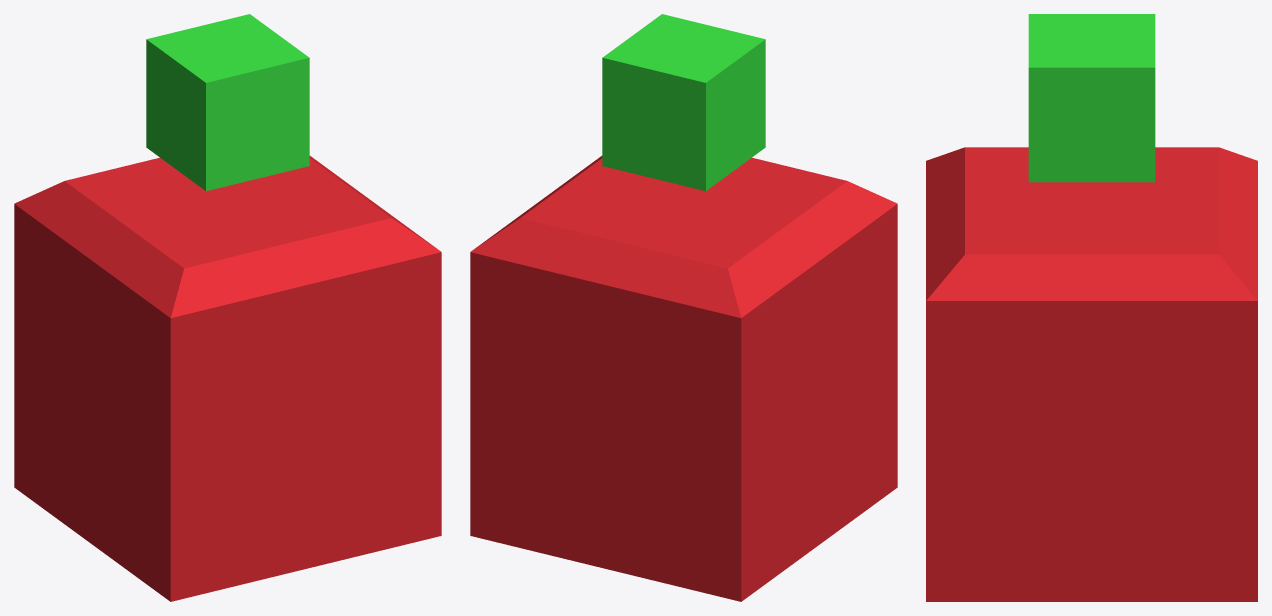
Rendered from TestBody.gltf.
The picture shows the model from 3 angles, left to right: view 1: azimuth 30°, elevation 25°; view 2: azimuth 150°, elevation 25°; view 3: azimuth 270°, elevation 25°; orthographic projection. The views are drawn at different scales.
Visible parts, largest first — view 1: Body, Head; view 2: Body, Head; view 3: Body, Head.
Part boxes in pixels (box(x1,y1,x2,y2)): Body: box(14, 156, 441, 601); Head: box(146, 14, 309, 191); Body: box(470, 156, 897, 601); Head: box(602, 14, 765, 191); Body: box(926, 147, 1257, 601); Head: box(1028, 14, 1155, 182).
Size of the model in its own units: 2 by 3.26 by 2.
